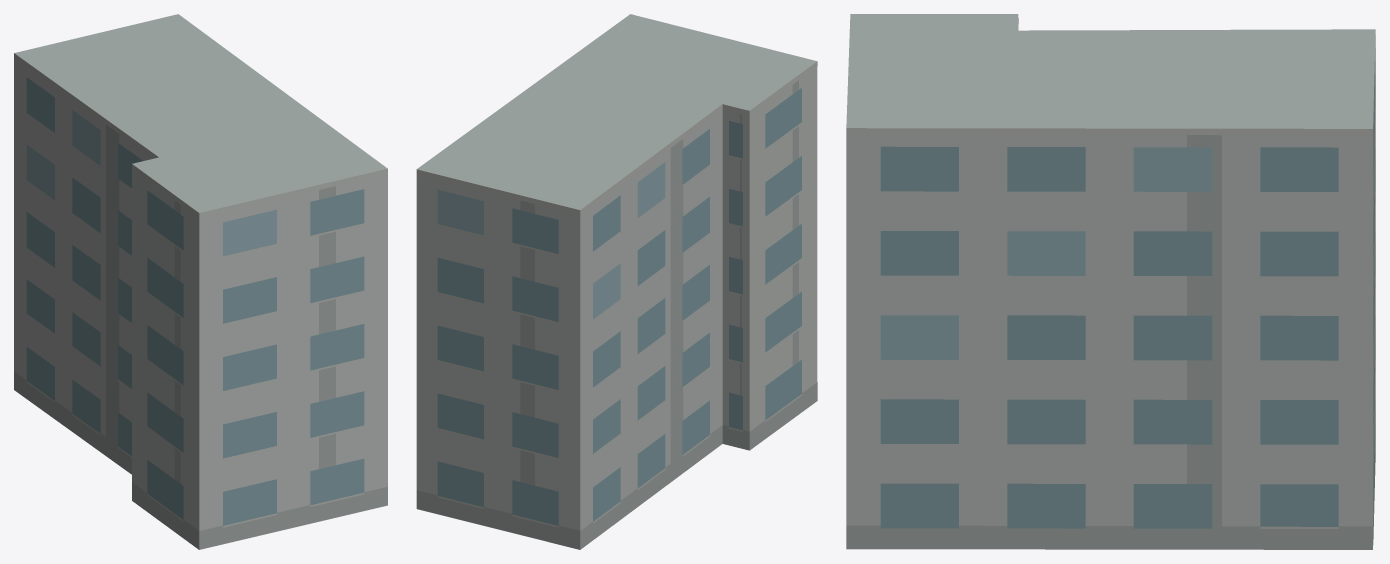
File: survey-upis-32753207.glb
The picture shows the model from 3 angles, left to right: view 1: azimuth 30°, elevation 25°; view 2: azimuth 150°, elevation 25°; view 3: azimuth 270°, elevation 25°; orthographic projection. The views are drawn at different scales.
Visible parts, largest first — view 1: survey-upis-32753207.tmp; view 2: survey-upis-32753207.tmp; view 3: survey-upis-32753207.tmp.
Part boxes in pixels (x1,y1,x2,y2): survey-upis-32753207.tmp: [14, 14, 387, 549]; survey-upis-32753207.tmp: [416, 14, 817, 549]; survey-upis-32753207.tmp: [846, 14, 1375, 549].
Size of the model in its own units: 9.27 by 15.8 by 18.02.
